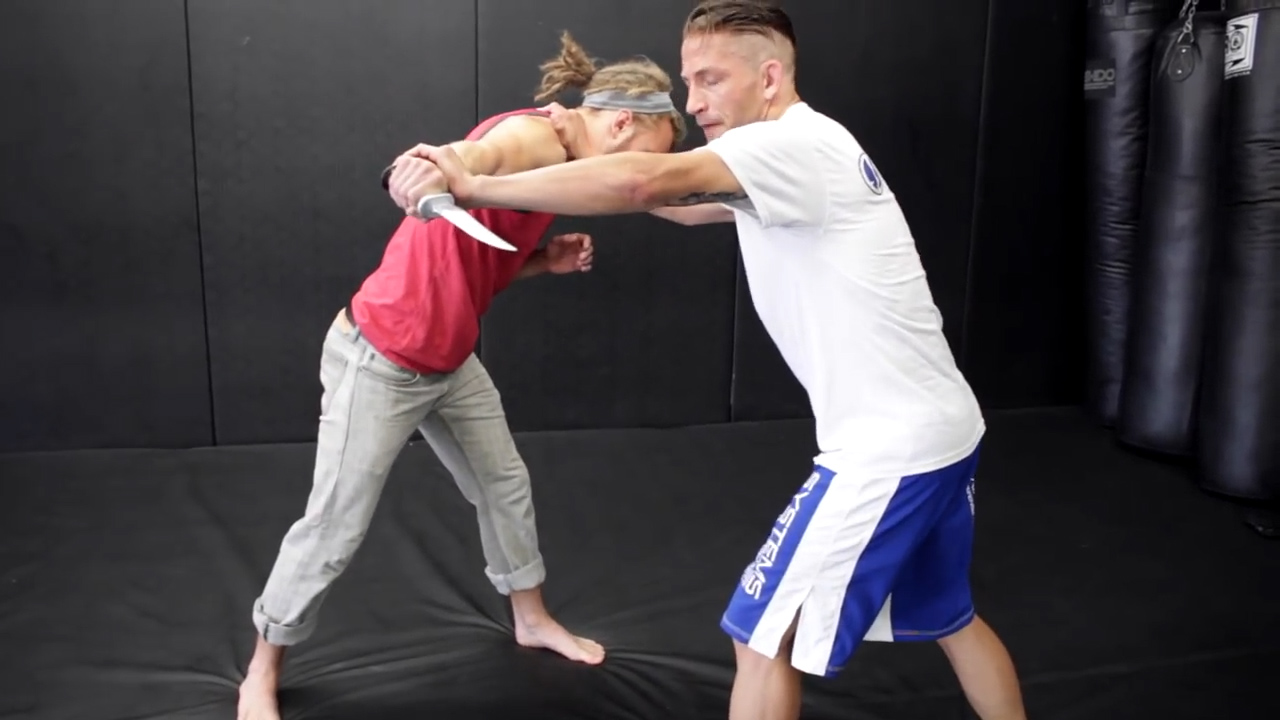knife: (375, 159, 533, 265)
